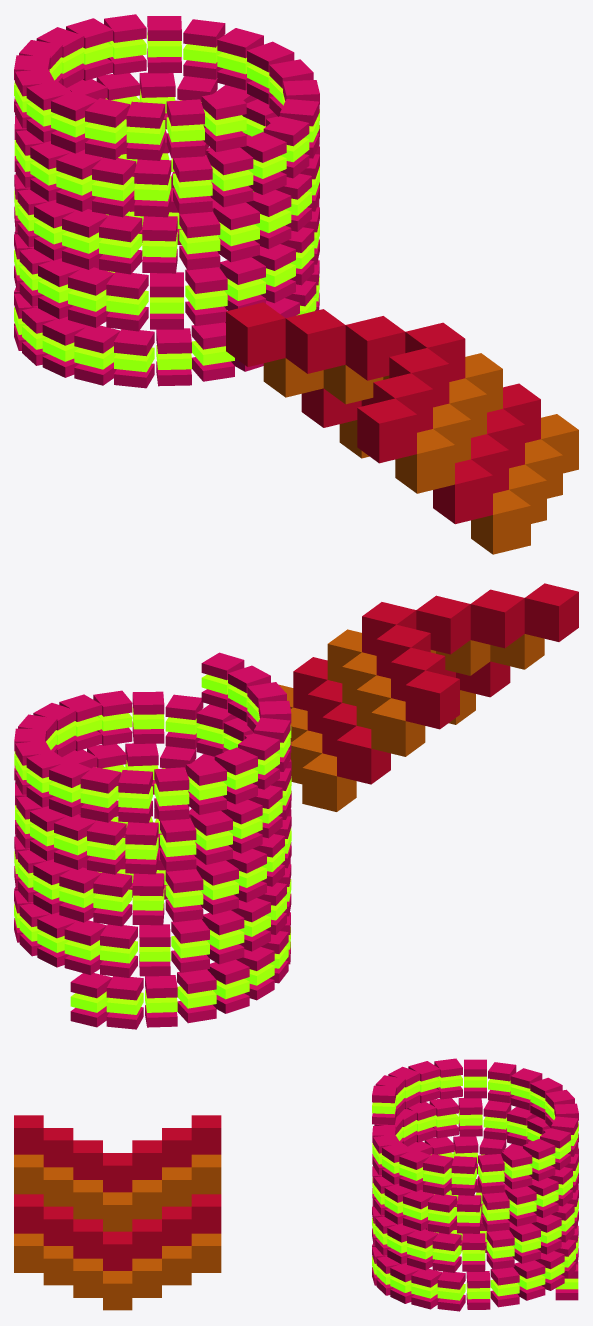
The model's file is herramientas.fbx.
3 renders of one model, top to bottom at view 1: azimuth 30°, elevation 25°; view 2: azimuth 150°, elevation 25°; view 3: azimuth 270°, elevation 25°, orthographic. The views are drawn at different scales.
Parts seen in each view (by area): view 1: Muelle, Flecha4, Flecha3, Flecha2, Flecha1; view 2: Muelle, Flecha4, Flecha3, Flecha2, Flecha1; view 3: Muelle, Flecha3, Flecha4, Flecha2, Flecha1.
Boxes of the visible parts, x1,y1,x2,y2 form: Muelle: (14,14,319,388); Flecha4: (226,302,465,463); Flecha3: (263,353,502,493); Flecha2: (301,383,540,524); Flecha1: (339,414,578,554); Muelle: (14,652,291,1029); Flecha4: (362,583,578,729); Flecha3: (327,629,544,756); Flecha2: (293,657,510,784); Flecha1: (279,684,475,811); Muelle: (372,1058,578,1311); Flecha3: (14,1154,221,1231); Flecha4: (14,1115,221,1192); Flecha2: (14,1194,221,1270); Flecha1: (14,1233,221,1310).
Size of the model in its own units: 184 by 194 by 494.
